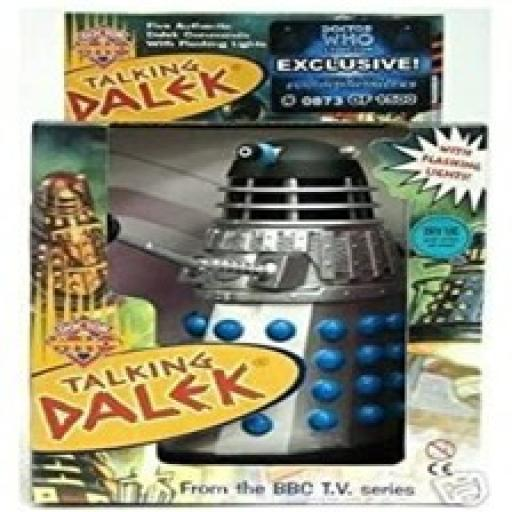dalek: (104, 140, 416, 481), (31, 169, 111, 326)
